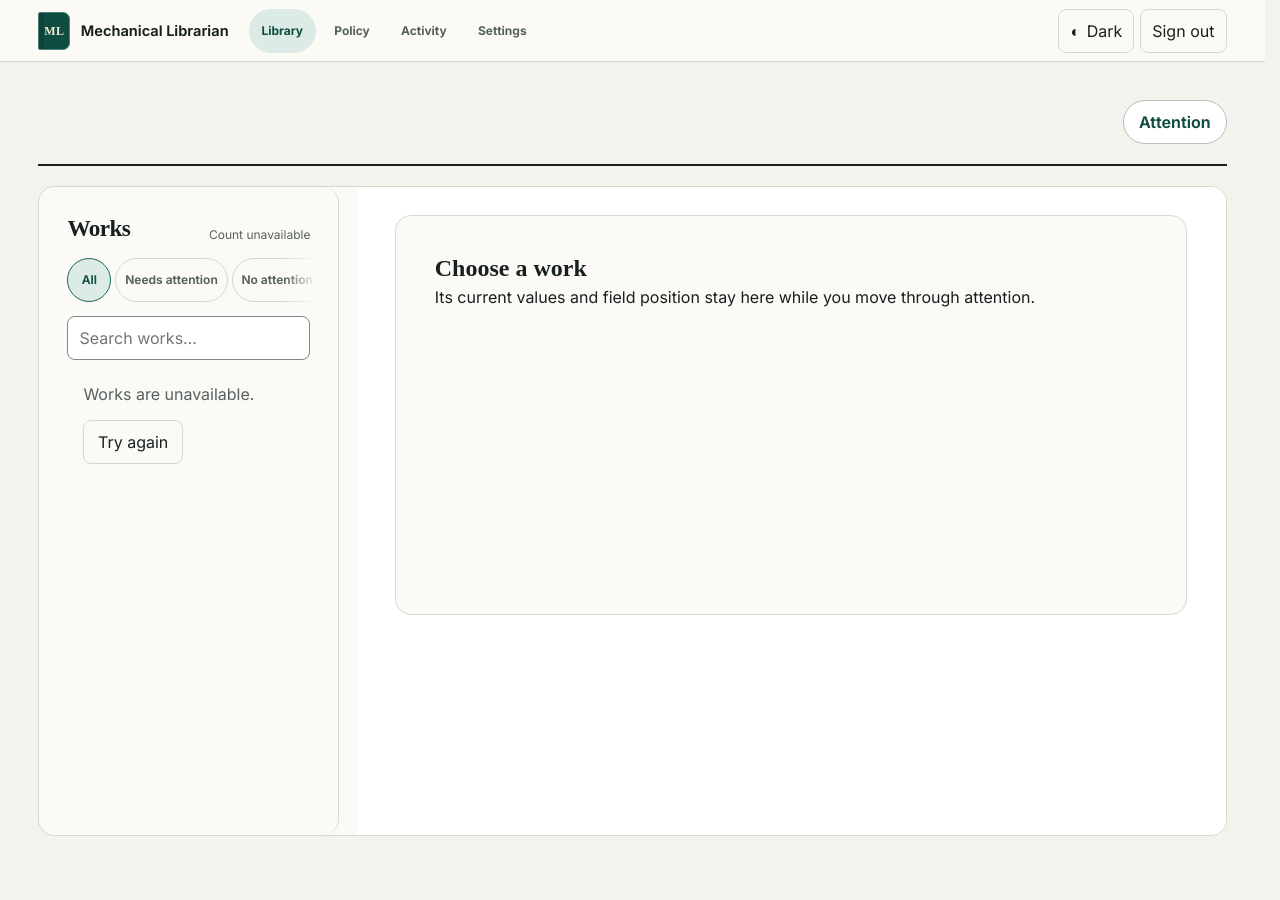
Scenario: retries unavailable Works while the Library shell remains usable
Expected: the text "Works are unavailable." is shown, [83,384,254,404]
Click the button "Try again" at (133, 442), box [83,420,183,464]
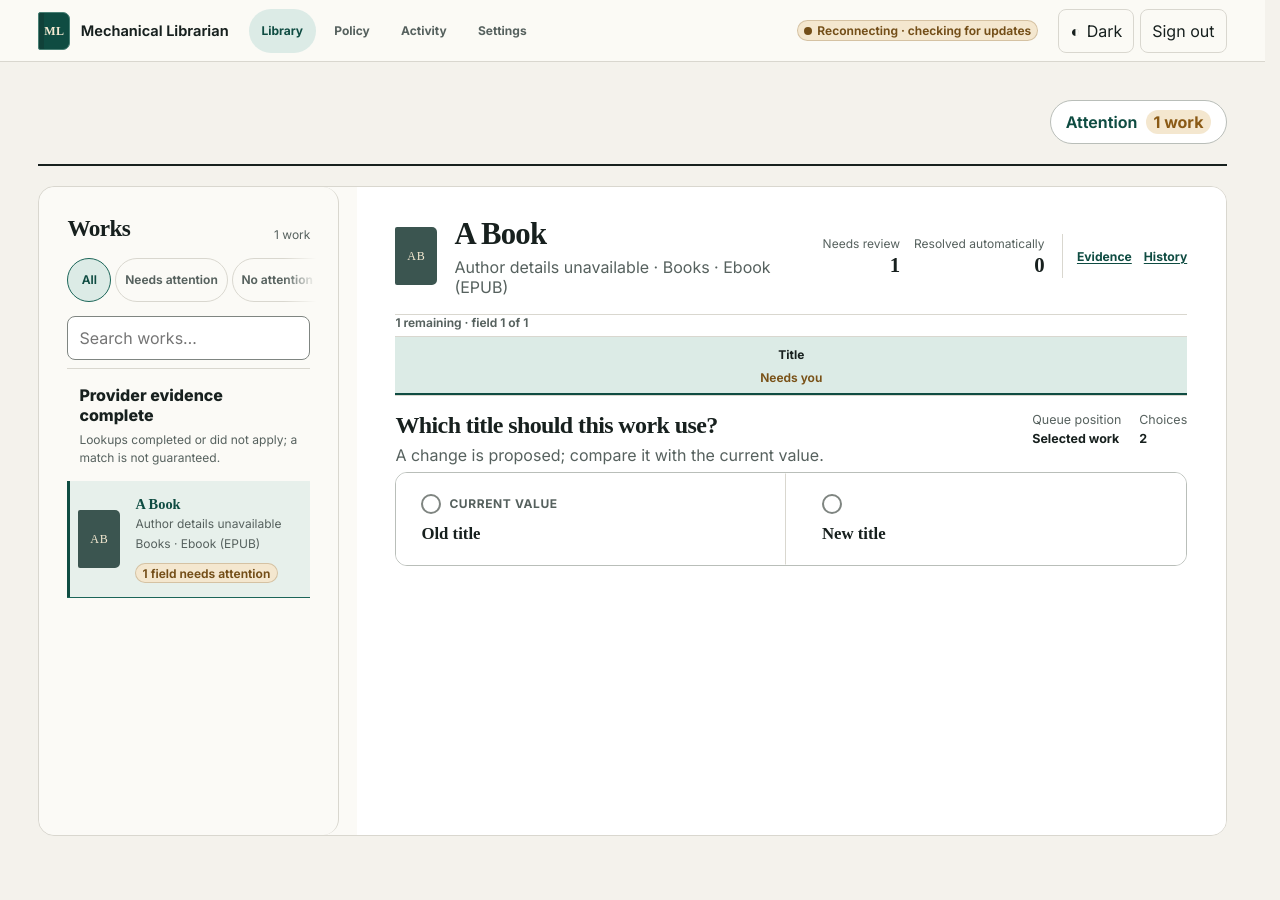
Now the text "Works are unavailable." is gone
